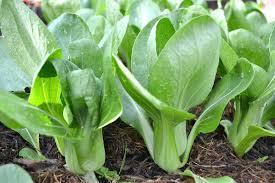Healthy-Pechay: (0, 6, 272, 183)
